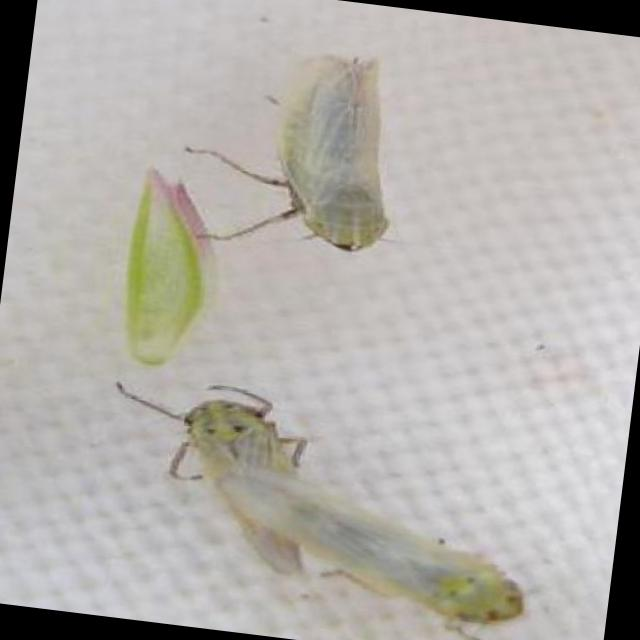brown-planthopper: (86, 364, 550, 635), (171, 30, 408, 268)
